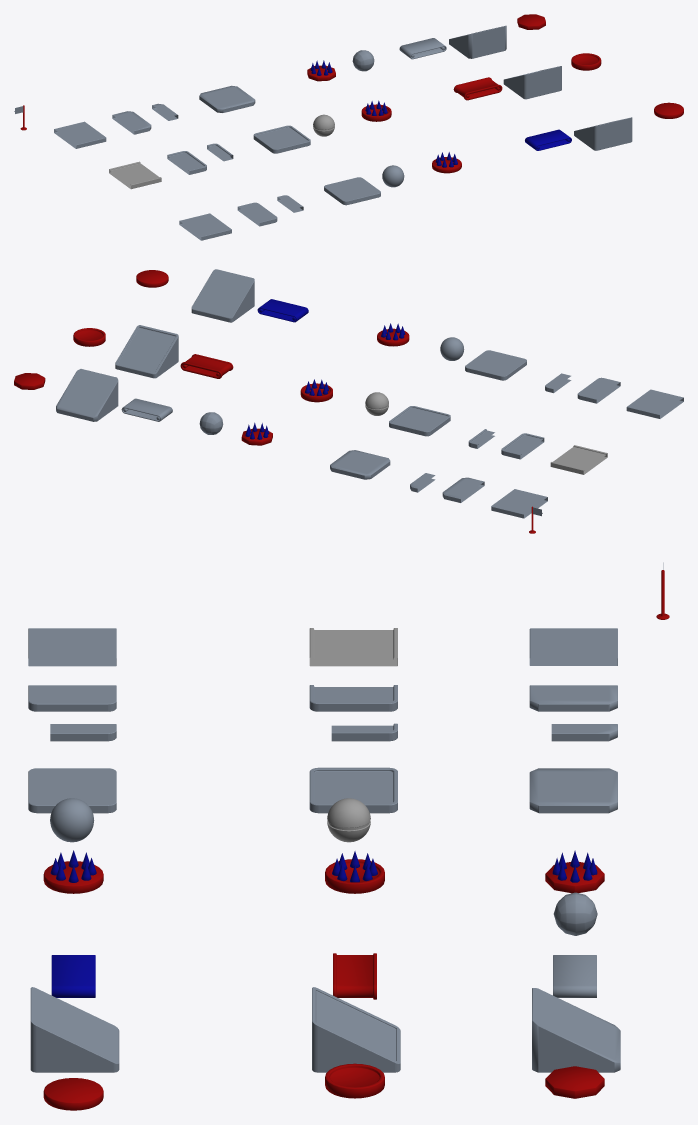
The model's file is Platforms.fbx.
3 views of the same model, one above another, from view 1: azimuth 30°, elevation 25°; view 2: azimuth 150°, elevation 25°; view 3: azimuth 270°, elevation 25° (orthographic). The views are drawn at different scales.
Visible parts, largest first — view 1: Ramp_3, Ramp_2, Ramp, NodePlatform_2_2, NodePlatform_3_3, NodePlatform, NodePlatform_2_4, NodePlatform_2, NodePlatform_2_3, TreadMill_2, TreadMill, TreadMill_3 (+9 smaller); view 2: Ramp_2, Ramp_3, Ramp, NodePlatform_2_2, NodePlatform_3_3, NodePlatform, NodePlatform_2_4, NodePlatform_2_3, NodePlatform_2, TreadMill_2, TreadMill, TreadMill_3 (+9 smaller); view 3: Ramp_3, Ramp, Ramp_2, NodePlatform, NodePlatform_2_2, NodePlatform_3_3, NodePlatform_2_4, NodePlatform_2, NodePlatform_2_3, NodePlatform_1_3, NodePlatform_1, NodePlatform_1_2 (+14 smaller).
Boxes of the visible parts, x1,y1,x2,y2 form: Ramp_3: (574,117,632,150); Ramp_2: (503,66,561,99); Ramp: (449,25,506,58); NodePlatform_2_2: (253,125,310,153); NodePlatform_3_3: (324,177,380,205); NodePlatform: (199,85,255,112); NodePlatform_2_4: (179,213,231,240); NodePlatform_2: (54,121,106,148); NodePlatform_2_3: (109,161,161,189); TreadMill_2: (453,77,502,100); TreadMill: (399,38,446,59); TreadMill_3: (525,129,571,150); Ramp_2: (115,325,178,378); Ramp_3: (191,269,254,322); Ramp: (56,369,118,421); NodePlatform_2_2: (389,406,450,436); NodePlatform_3_3: (465,350,526,380); NodePlatform: (330,450,390,479); NodePlatform_2_4: (626,389,683,418); NodePlatform_2_3: (550,445,607,474); NodePlatform_2: (491,489,547,518); TreadMill_2: (180,354,233,378); TreadMill: (121,398,172,421); TreadMill_3: (257,299,308,322); Ramp_3: (30,987,119,1072); Ramp: (532,988,620,1072); Ramp_2: (312,987,400,1072); NodePlatform: (529,768,617,813); NodePlatform_2_2: (309,767,397,813); NodePlatform_3_3: (28,768,116,813); NodePlatform_2_4: (28,628,116,666); NodePlatform_2: (529,628,617,665); NodePlatform_2_3: (309,628,397,666); NodePlatform_1_3: (28,685,116,711); NodePlatform_1: (529,685,617,711); NodePlatform_1_2: (309,685,397,711).
Bounding box in the file's own units: 5437 × 308 × 2900.
